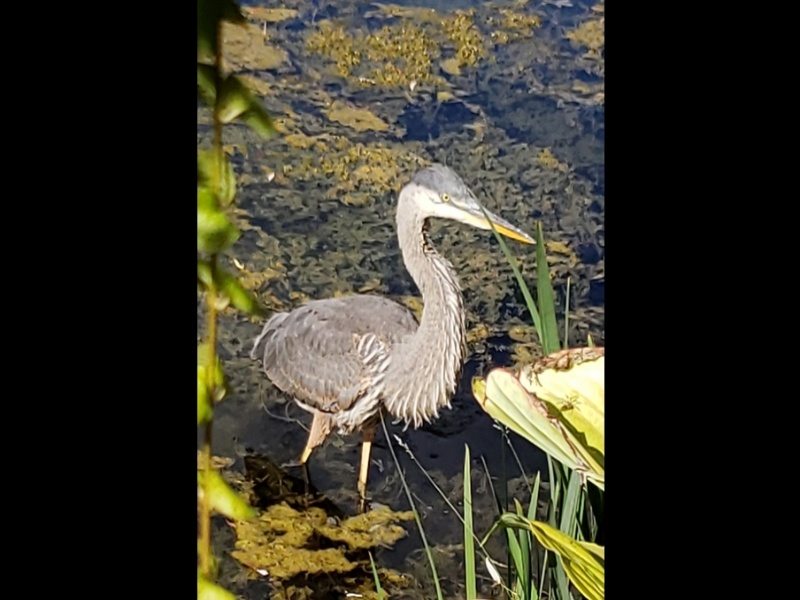heron: (249, 159, 537, 530)
